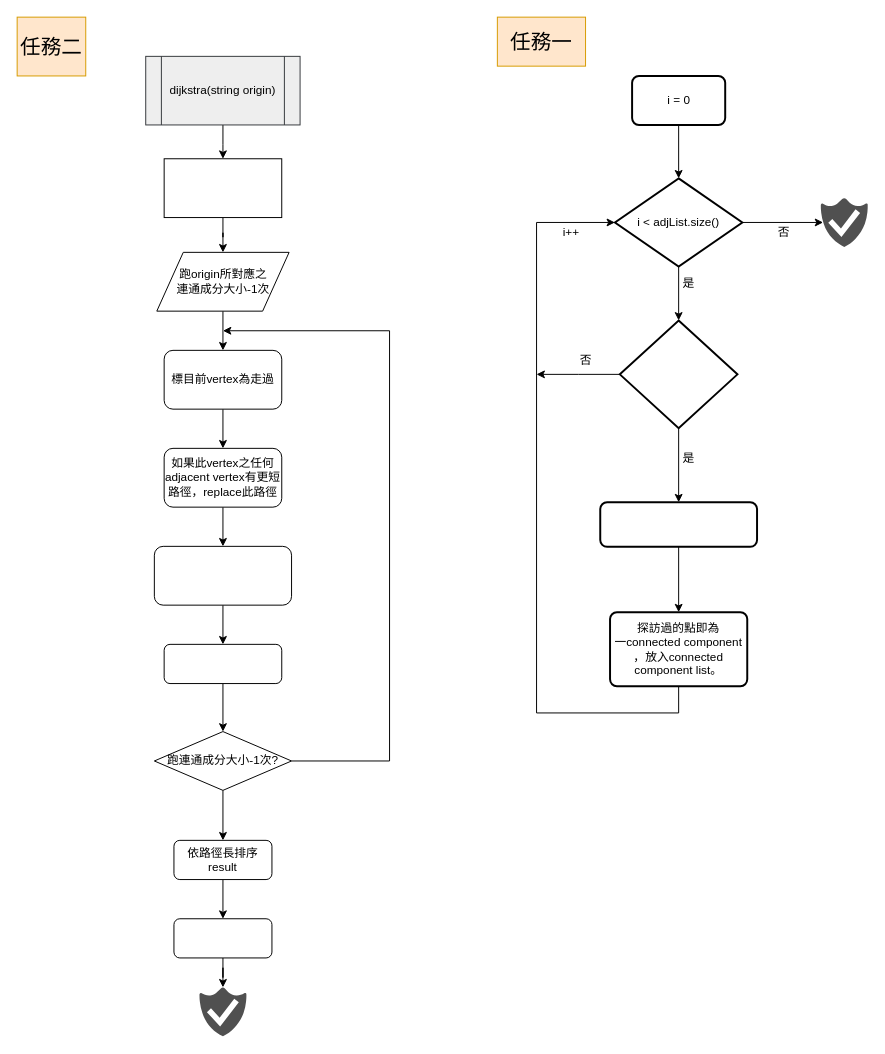
The diagram is 885 pixels wide and 1054 high, and some of its shapes have lost their labels. Each missing label, with the centre of its shape:
adjList[i].id1 是否不屬於 任何connected component: the point at 678,374
以其為起點做DFS: the point at 678,524
初始化: the point at 222,188
將此對應路徑長存進 result vector: the point at 222,663
目前vertex = 一沒走過且最短路徑對應之vertex: the point at 222,575
輸出: the point at 222,938
